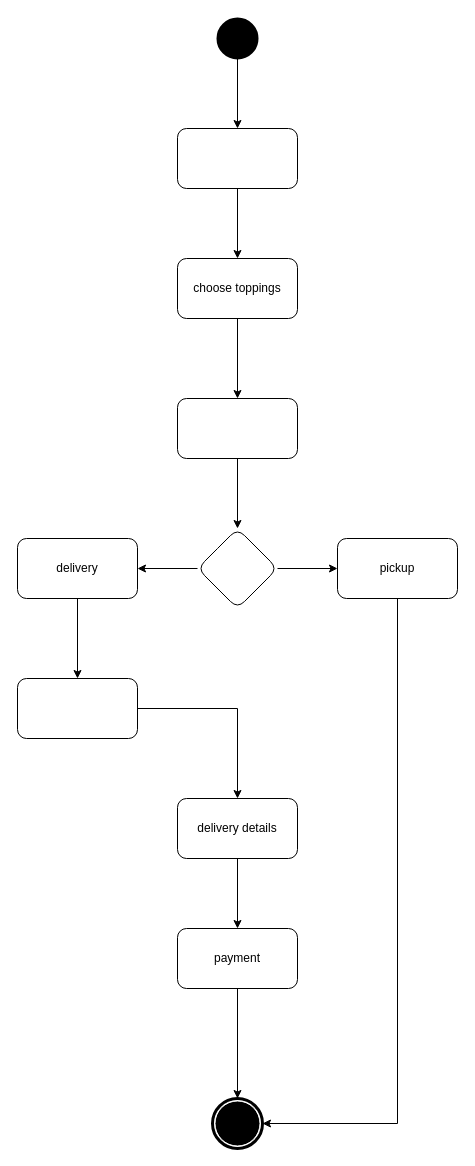
Image size: 475x1166. Some labels were removed from this diagram. Here are the shapes that lost their labels. From the top down, the centre of each, then its label:
At (237,158): "select pizza size".
At (237,428): "add to cart".
At (77,708): "calculate total".
